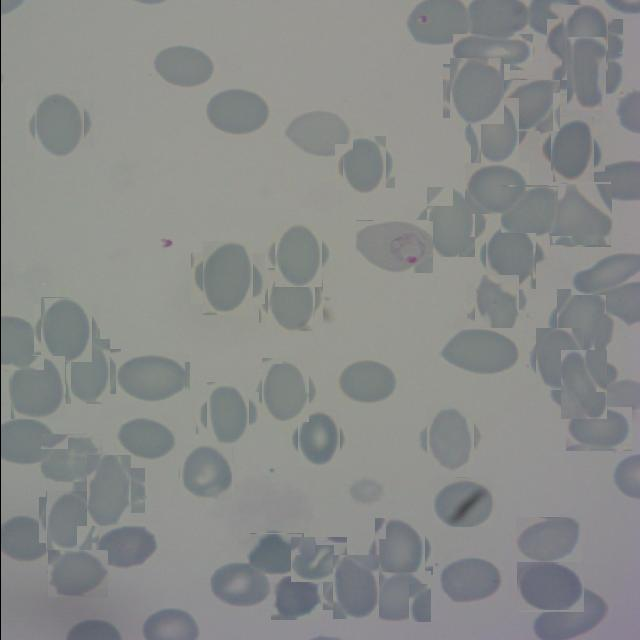leukocyte: (548, 183, 611, 246), (196, 248, 258, 310), (438, 328, 518, 376), (553, 12, 614, 73), (115, 353, 190, 402), (550, 294, 610, 354), (420, 192, 480, 252), (446, 61, 506, 121), (8, 358, 67, 417), (480, 226, 540, 284), (516, 561, 584, 612), (30, 96, 89, 154), (370, 521, 428, 579), (466, 102, 524, 160), (80, 462, 138, 520), (554, 355, 612, 413), (203, 87, 270, 137), (36, 301, 94, 358), (366, 571, 430, 622), (464, 163, 528, 214), (285, 109, 352, 157), (436, 556, 502, 604), (262, 272, 318, 328), (270, 226, 326, 282), (256, 362, 312, 418), (558, 46, 614, 102), (531, 332, 587, 388), (515, 517, 581, 564), (421, 411, 477, 466), (327, 559, 382, 615), (207, 561, 272, 608), (432, 478, 493, 528), (60, 344, 115, 399), (544, 122, 598, 178), (502, 79, 560, 131), (570, 252, 640, 295), (40, 434, 101, 482), (93, 524, 158, 569), (151, 44, 216, 89), (178, 445, 232, 499), (565, 407, 631, 451), (335, 358, 398, 404), (452, 34, 532, 70), (47, 550, 107, 597), (42, 494, 94, 547), (116, 415, 177, 460), (500, 186, 558, 233), (338, 140, 390, 192), (200, 387, 252, 439), (470, 278, 522, 330), (290, 536, 347, 582), (293, 414, 343, 464), (270, 574, 321, 620), (248, 533, 302, 576)
red blood cell: (355, 220, 433, 273)
